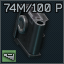AK-74M%5AK-100 Zenit PT Lock: (0, 0, 64, 64)
